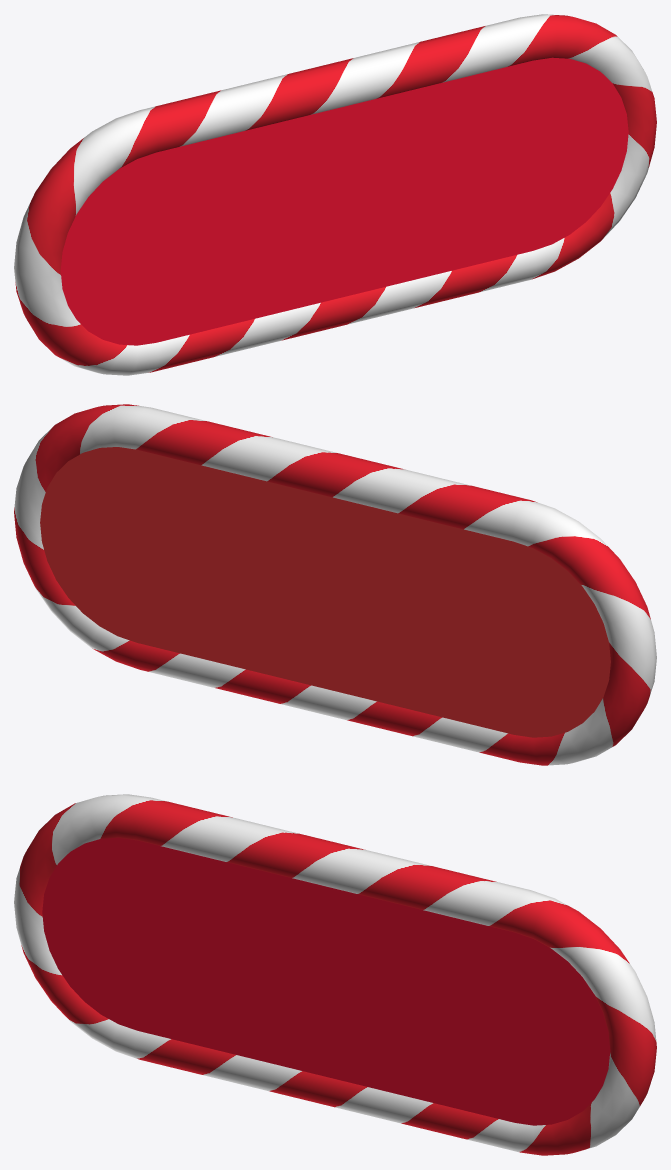
Rendered from play_btn.glb.
3 renders of one model, top to bottom at view 1: azimuth 30°, elevation 25°; view 2: azimuth 150°, elevation 25°; view 3: azimuth 330°, elevation 25°, orthographic.
Visible parts, largest first — view 1: Cylinder, Cylinder.001; view 2: Cylinder, Cylinder.001; view 3: Cylinder, Cylinder.001.
Boxes of the visible parts, bbox=[...] form: Cylinder: bbox=[60, 57, 628, 345]; Cylinder.001: bbox=[14, 14, 656, 375]; Cylinder: bbox=[40, 447, 610, 737]; Cylinder.001: bbox=[14, 404, 656, 765]; Cylinder: bbox=[42, 837, 610, 1125]; Cylinder.001: bbox=[14, 794, 656, 1155].
Size of the model in its own units: 5.54 by 2.16 by 0.3594.
Materials: 2 (2 with a texture image).
